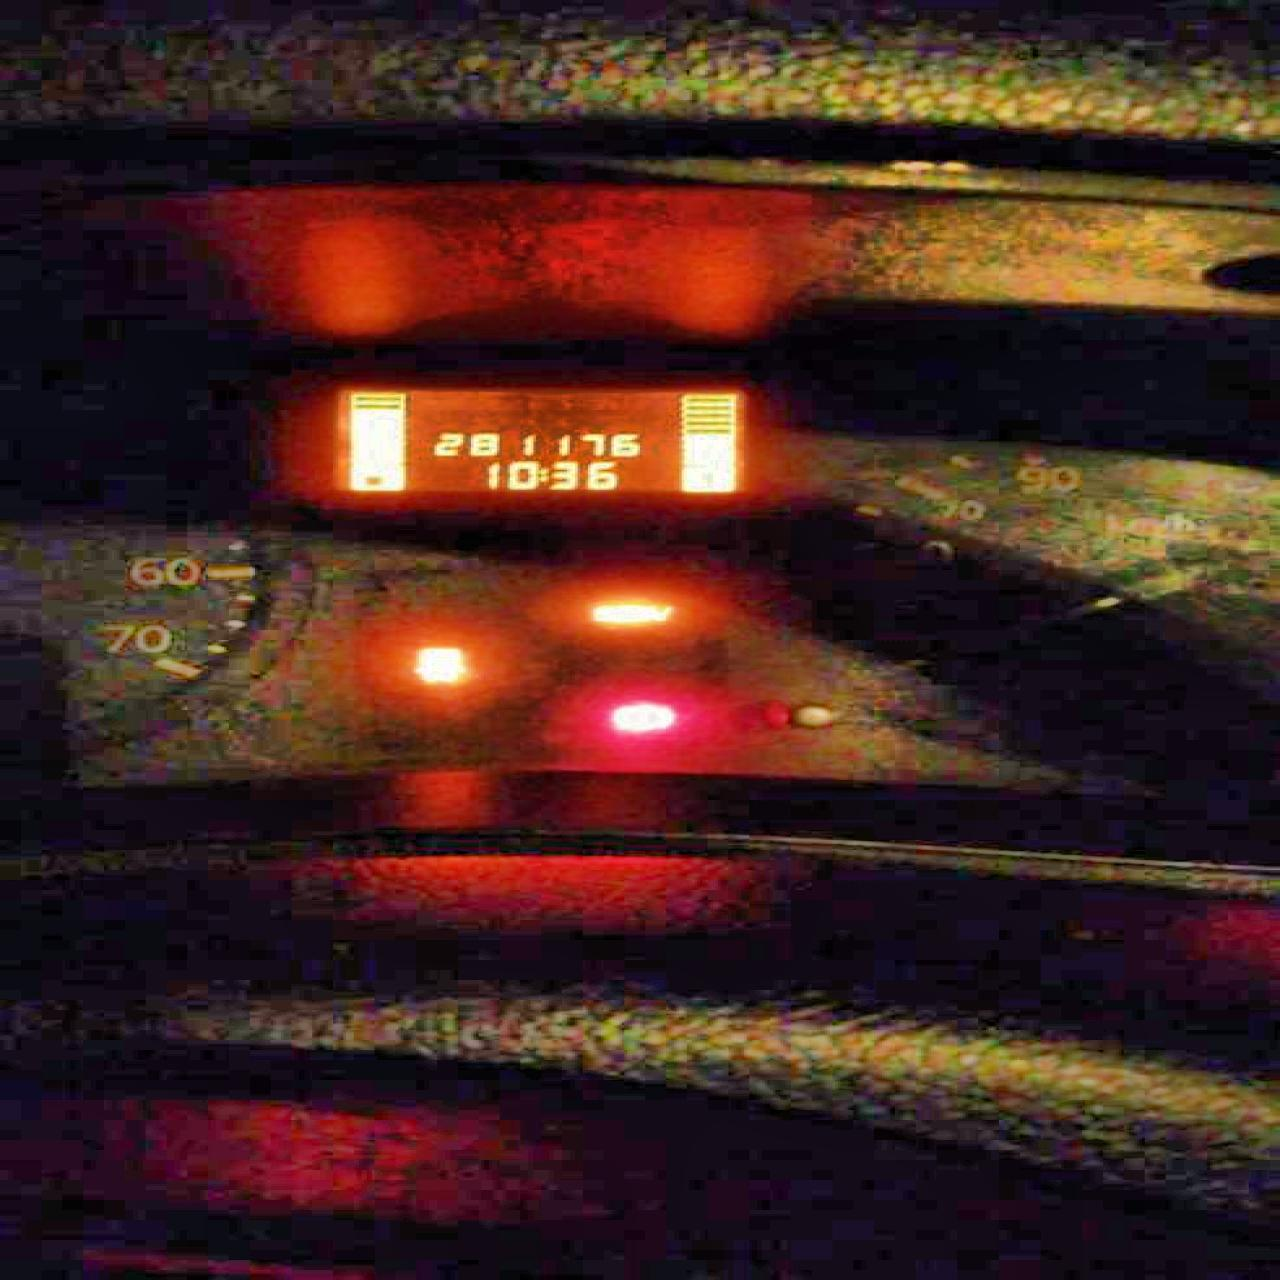0: (505, 459, 536, 490)
1: (482, 459, 499, 489), (554, 431, 570, 456), (520, 431, 536, 456)
2: (429, 430, 463, 456)
3: (546, 459, 578, 490)
6: (583, 459, 617, 490), (606, 431, 638, 457)
7: (578, 431, 604, 456)
8: (465, 431, 499, 456)
X: (536, 467, 546, 482)
odometer: (320, 381, 749, 497)
